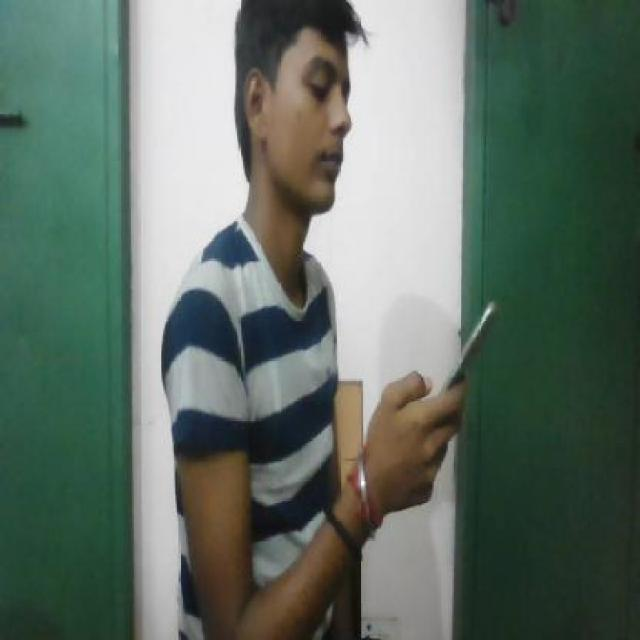Phone: (440, 300, 500, 392)
